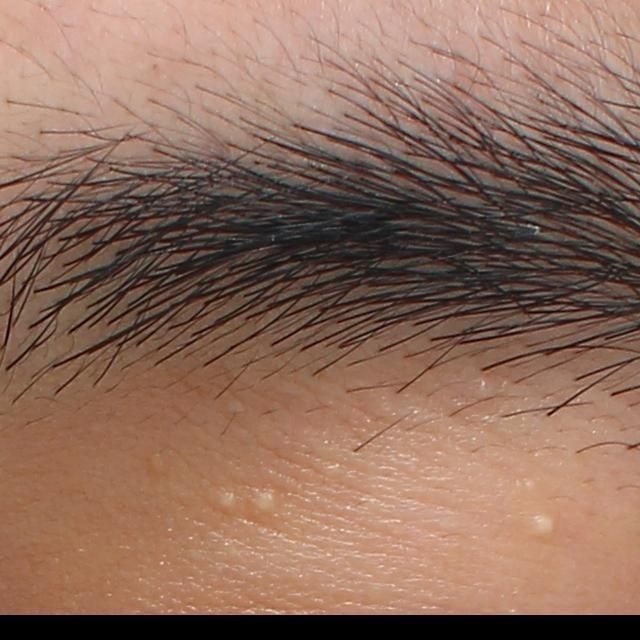other: (528, 507, 557, 538), (254, 489, 278, 517), (216, 492, 237, 513)
